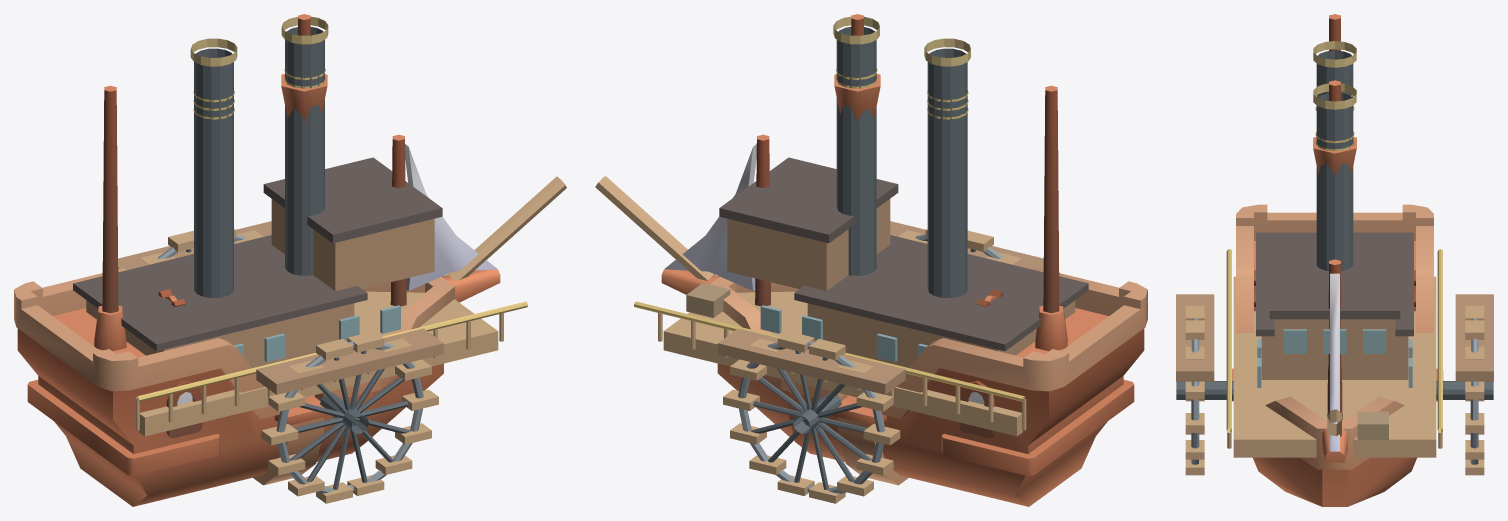
File: paddle_steamer-custom.glb
3 views of the same model, side by side, from view 1: azimuth 30°, elevation 25°; view 2: azimuth 150°, elevation 25°; view 3: azimuth 270°, elevation 25° (orthographic). The views are drawn at different scales.
Parts seen in each view (by area): view 1: paddle_steamer-bespoke-components, ship-medium; view 2: paddle_steamer-bespoke-components, ship-medium; view 3: paddle_steamer-bespoke-components, ship-medium.
Part boxes in pixels (x1=…): paddle_steamer-bespoke-components: x1=73, y1=16, x2=566, y2=503; ship-medium: x1=14, y1=14, x2=500, y2=506; paddle_steamer-bespoke-components: x1=595, y1=16, x2=1088, y2=503; ship-medium: x1=661, y1=14, x2=1147, y2=506; paddle_steamer-bespoke-components: x1=1176, y1=41, x2=1493, y2=475; ship-medium: x1=1232, y1=14, x2=1443, y2=506.
Bounding box in the file's own units: 43.25 × 35.07 × 24.82.
10 materials, 1 textured.
